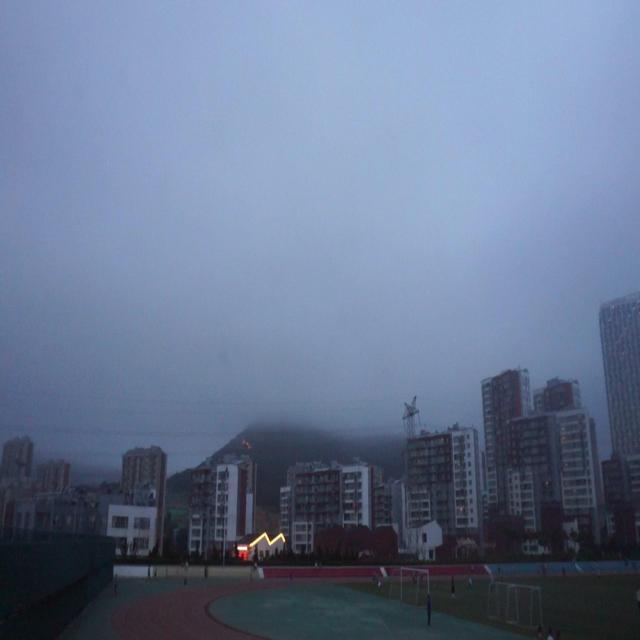drone: (240, 434, 254, 453)
